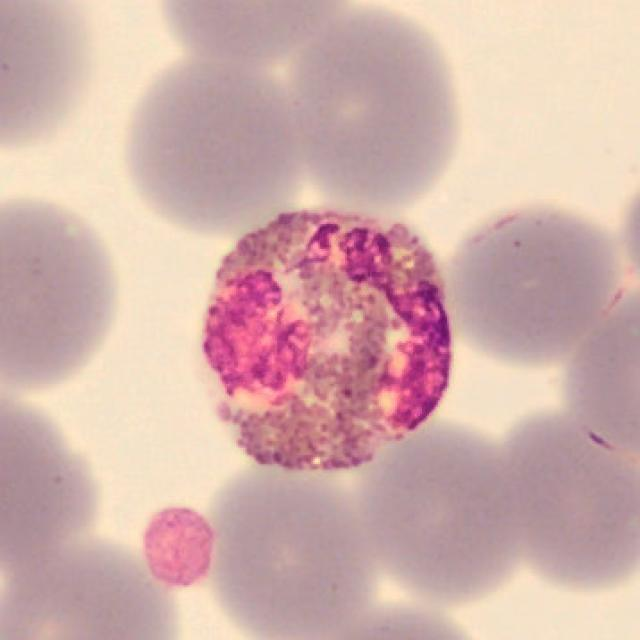Eosinofilo: (198, 210, 452, 473)
